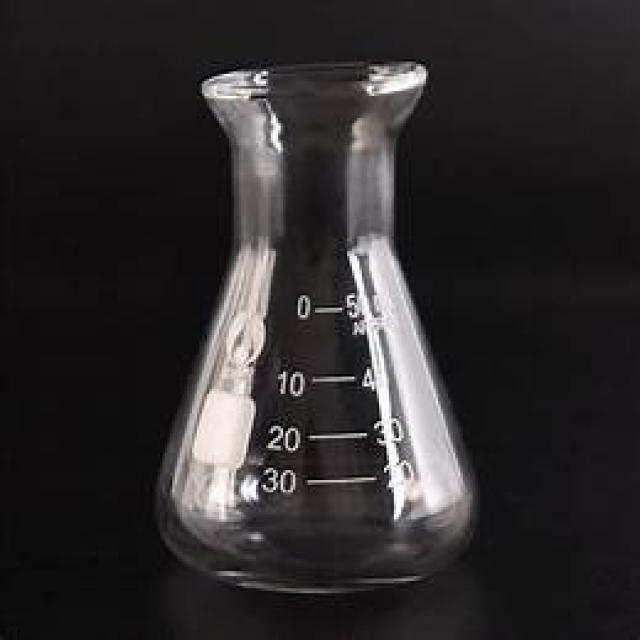Titrarion: (128, 61, 480, 591)
